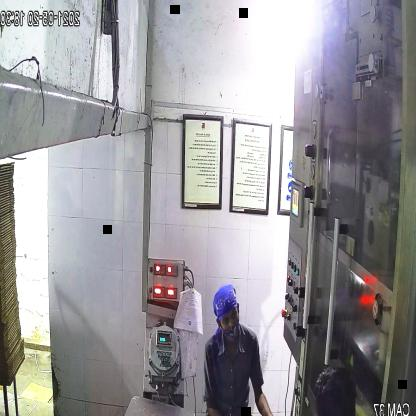no_goggles: (218, 303, 243, 330)
